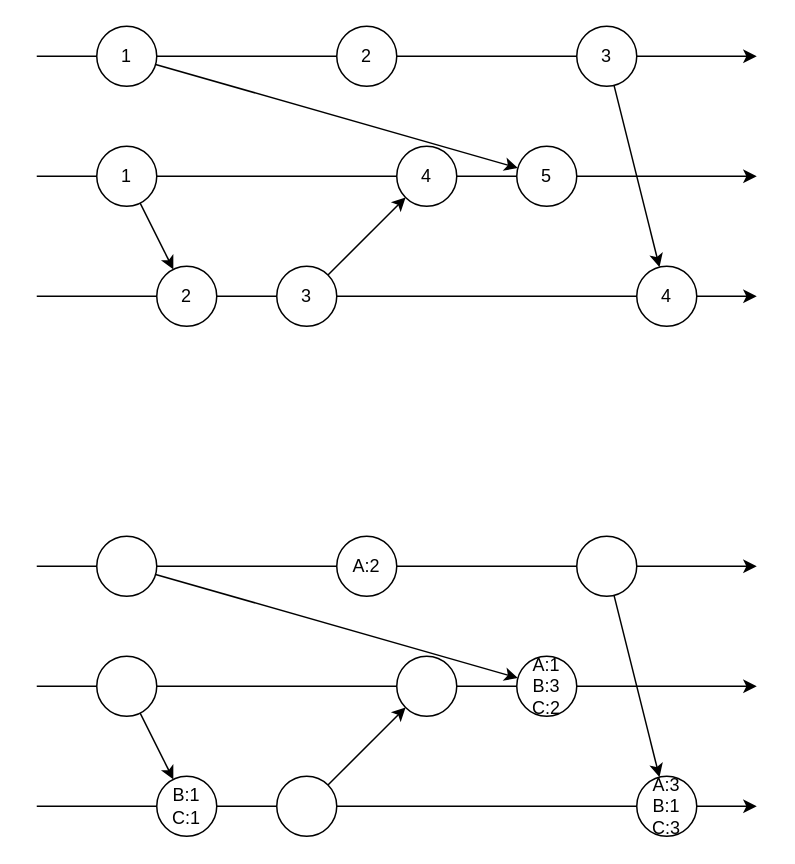
Some shapes in this 795 by 864 pixel diagram are drawn without their labels. Each missing label, with the centre of its shape:
"A:1" goes at pixel 126 565.
"A:3" goes at pixel 606 565.
"B:1" goes at pixel 126 685.
"B:1 C:2" goes at pixel 306 805.
"B:2 C:2" goes at pixel 426 685.
